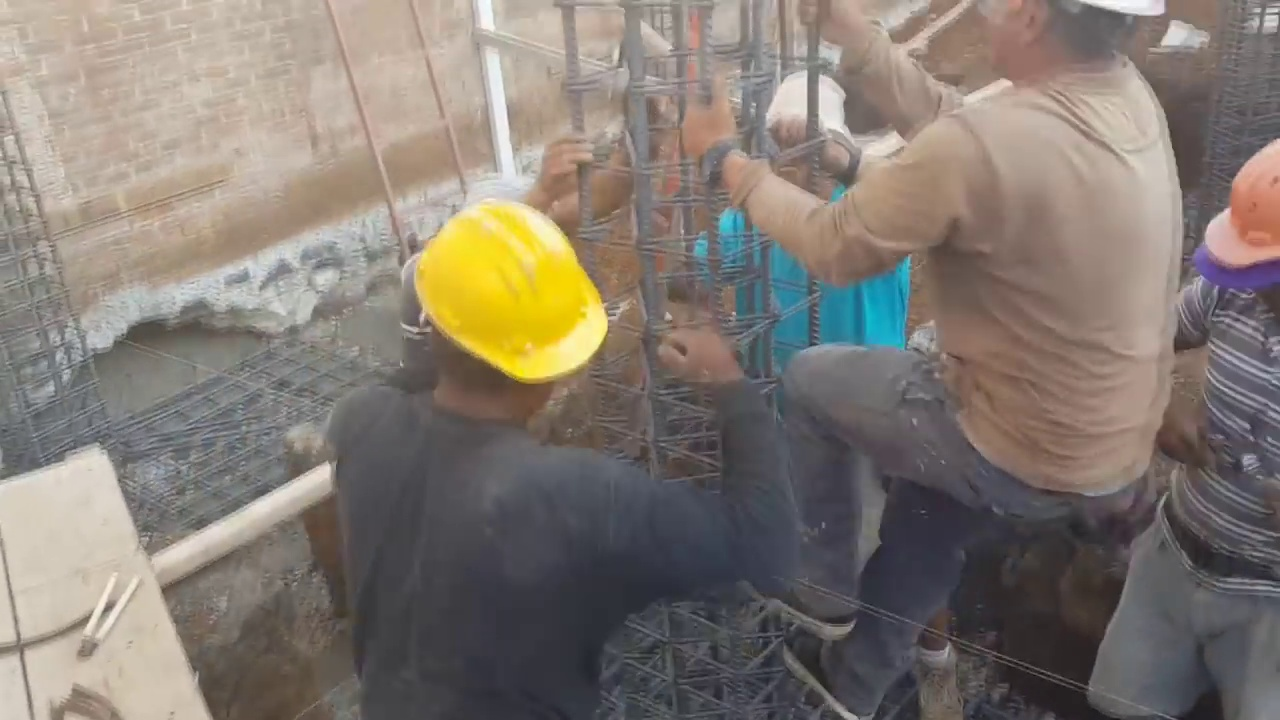helmet: (409, 195, 603, 388), (1204, 139, 1280, 270), (763, 68, 855, 152)
helmet-off: (978, 0, 1163, 97)
helmet-on: (391, 187, 600, 431), (1201, 137, 1280, 312)
person: (688, 5, 1203, 694), (319, 136, 777, 720), (657, 67, 917, 607), (1087, 153, 1278, 720), (787, 14, 963, 181)
